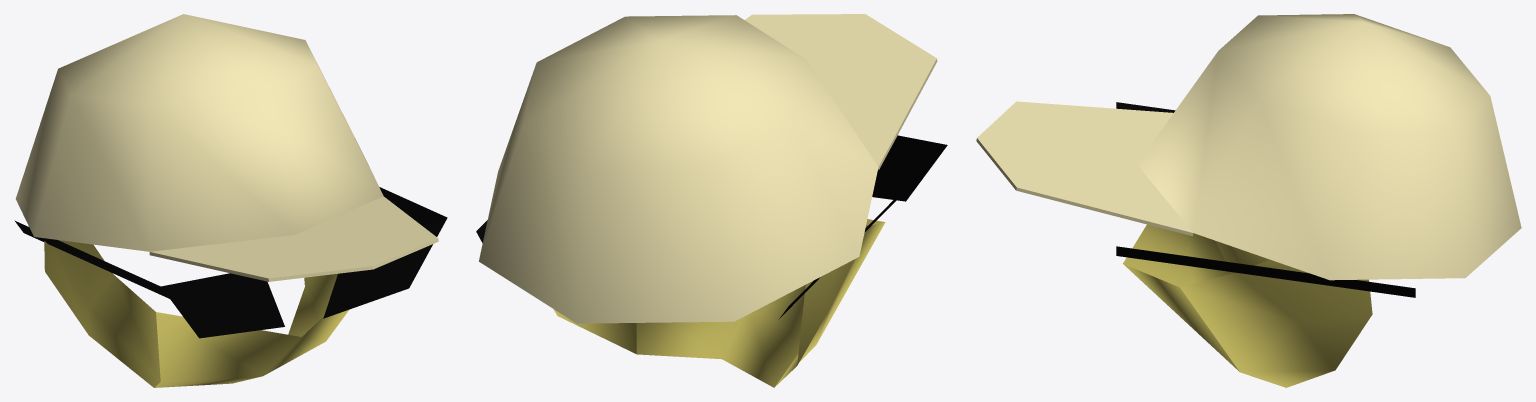
Rendered from prop_patriot_hat.fbx.
The picture shows the model from 3 angles, left to right: view 1: azimuth 30°, elevation 25°; view 2: azimuth 150°, elevation 25°; view 3: azimuth 270°, elevation 25°; orthographic projection. The views are drawn at different scales.
Parts seen in each view (by area): view 1: casquette patriote; view 2: casquette patriote; view 3: casquette patriote.
Part boxes in pixels (x1,y1,x2,y2): casquette patriote: (14,14,447,387); casquette patriote: (476,14,947,387); casquette patriote: (976,14,1521,387).
Bounding box in the file's own units: 0.6811 × 0.6462 × 0.9494.
1 material, 1 textured.
